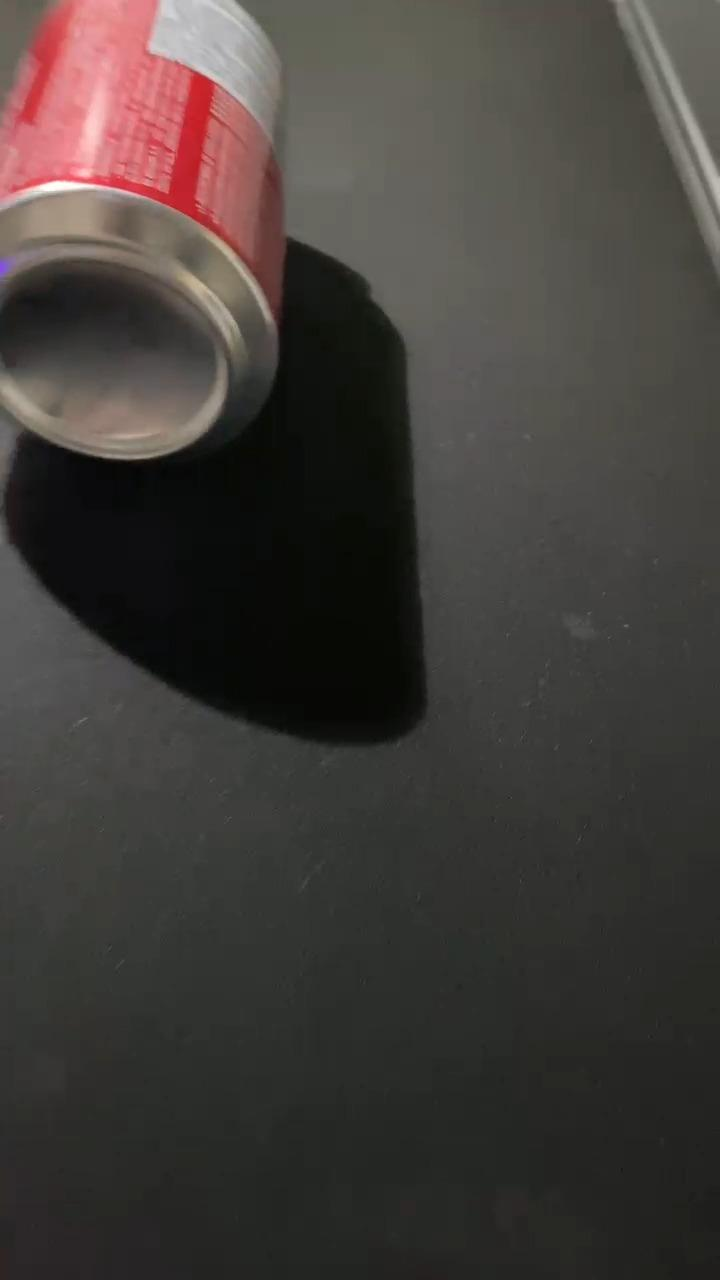coke: (0, 8, 289, 456)
